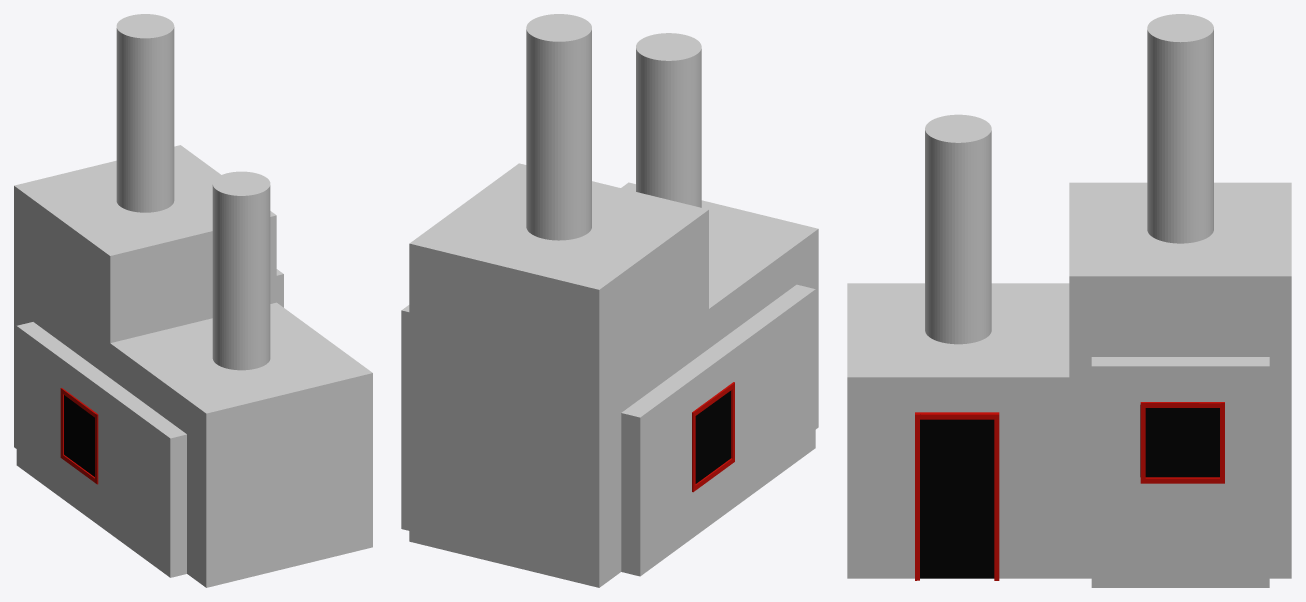
The model's file is factory.glb.
3 renders of one model, left to right at view 1: azimuth 30°, elevation 25°; view 2: azimuth 150°, elevation 25°; view 3: azimuth 270°, elevation 25°, orthographic. The views are drawn at different scales.
Parts seen in each view (by area): view 1: Cube, Cube.001, Cube.003, Cylinder, Cylinder.001, Cube.004; view 2: Cube, Cube.001, Cube.003, Cylinder.001, Cylinder, Cube.002, Cube.004; view 3: Cube, Cube.002, Cube.001, Cylinder, Cylinder.001, Cube.008, Cube.006.
Part boxes in pixels (x1,y1,x2,y2): Cube: (14, 273, 372, 587); Cube.001: (14, 145, 276, 343); Cube.003: (16, 322, 186, 577); Cylinder: (212, 171, 270, 370); Cylinder.001: (116, 14, 174, 212); Cube.004: (60, 388, 98, 484); Cube: (409, 182, 818, 587); Cube.001: (409, 163, 708, 388); Cube.003: (621, 284, 815, 576); Cylinder.001: (526, 14, 591, 240); Cylinder: (636, 33, 701, 207); Cube.002: (401, 305, 409, 530); Cube.004: (692, 382, 734, 492); Cube: (847, 283, 1291, 578); Cube.002: (1091, 357, 1269, 587); Cube.001: (1069, 182, 1291, 377); Cylinder: (925, 114, 991, 344); Cylinder.001: (1147, 14, 1213, 243); Cube.008: (915, 412, 999, 580); Cube.006: (1140, 402, 1224, 483).
Bounding box in the file's own units: 2.45 × 5 × 4.
